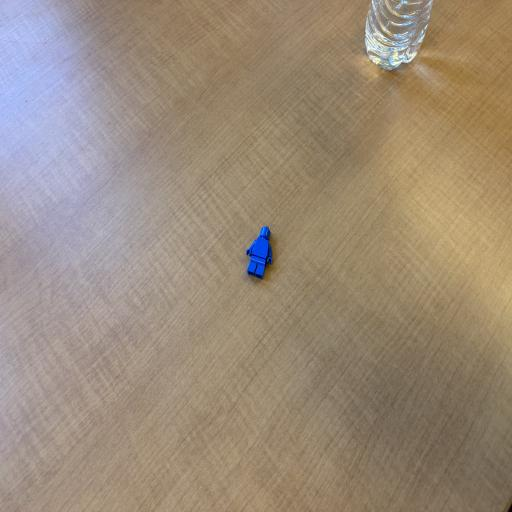Blue-Lego-Minifig: (246, 226, 273, 280)
